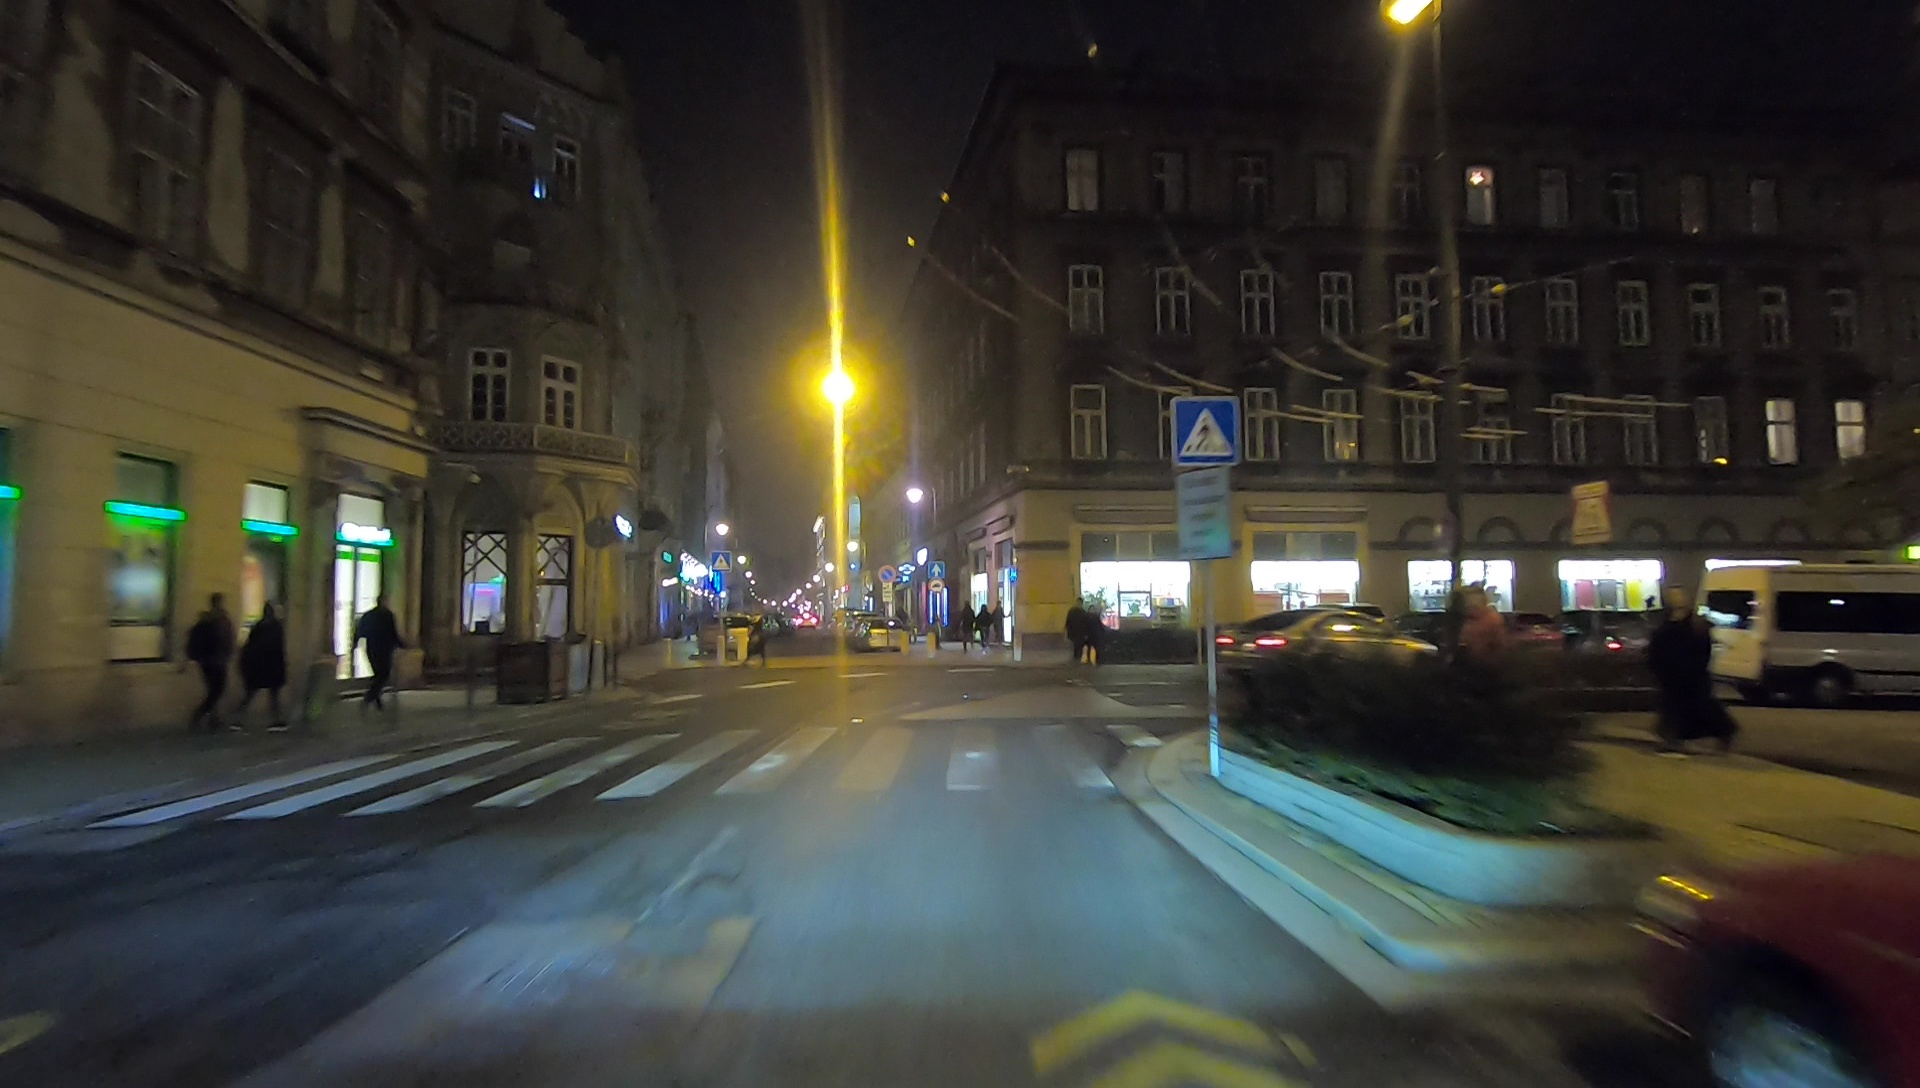person: (1654, 586, 1736, 752), (245, 591, 295, 737), (358, 593, 404, 717), (191, 591, 228, 736), (1462, 589, 1510, 697), (743, 613, 766, 667), (1082, 604, 1102, 669), (1067, 595, 1086, 650), (956, 602, 976, 653), (978, 601, 992, 647), (994, 601, 1005, 648)
